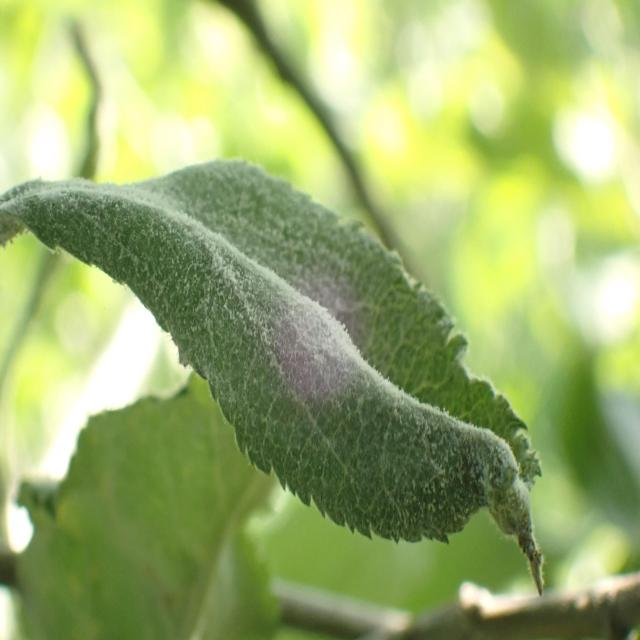Powdery_mildew: (0, 138, 547, 576)
